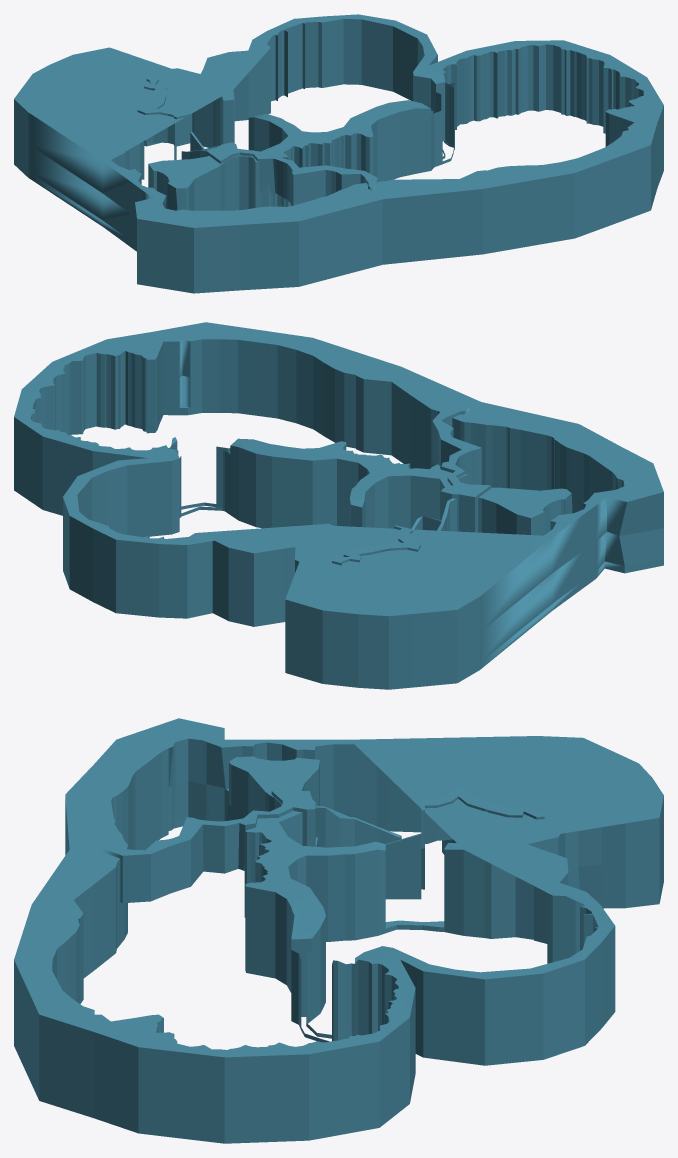
The model's file is Island Border.fbx.
The picture shows the model from 3 angles, top to bottom: view 1: azimuth 30°, elevation 25°; view 2: azimuth 150°, elevation 25°; view 3: azimuth 270°, elevation 25°; orthographic projection. The views are drawn at different scales.
Visible parts, largest first — view 1: Border, polySurface4, polySurface2, polySurface3; view 2: Border, polySurface4, polySurface2, polySurface3; view 3: Border, polySurface4, polySurface3, polySurface2.
Boxes of the visible parts, x1=… form: Border: x1=14, y1=14, x2=663, y2=293; polySurface4: x1=206, y1=142, x2=377, y2=205; polySurface2: x1=137, y1=77, x2=192, y2=146; polySurface3: x1=174, y1=122, x2=218, y2=159; Border: x1=14, y1=322, x2=663, y2=689; polySurface4: x1=432, y1=406, x2=491, y2=532; polySurface2: x1=332, y1=525, x2=420, y2=565; polySurface3: x1=411, y1=498, x2=456, y2=531; Border: x1=14, y1=718, x2=663, y2=1143; polySurface4: x1=94, y1=791, x2=315, y2=903; polySurface3: x1=315, y1=805, x2=424, y2=899; polySurface2: x1=421, y1=786, x2=544, y2=848.
Bounding box in the file's own units: 340 × 42.06 × 275.
